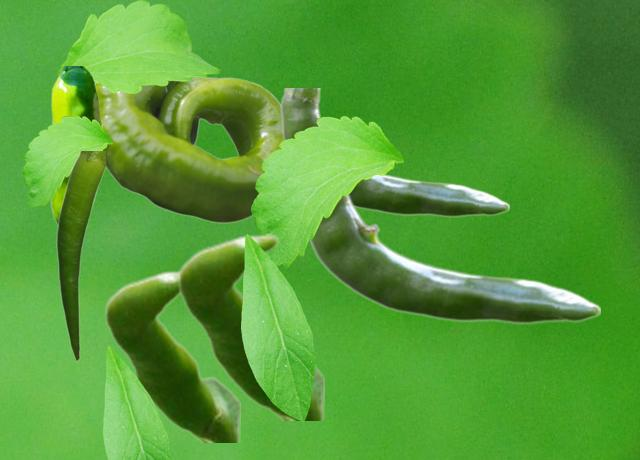green_chili: (308, 192, 599, 323), (280, 88, 508, 216), (177, 233, 323, 419), (96, 76, 281, 222), (104, 269, 239, 441), (56, 151, 104, 360), (48, 66, 101, 225)
